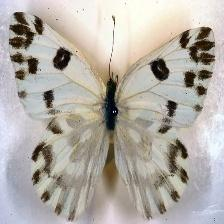butterfly: (9, 12, 215, 220)
